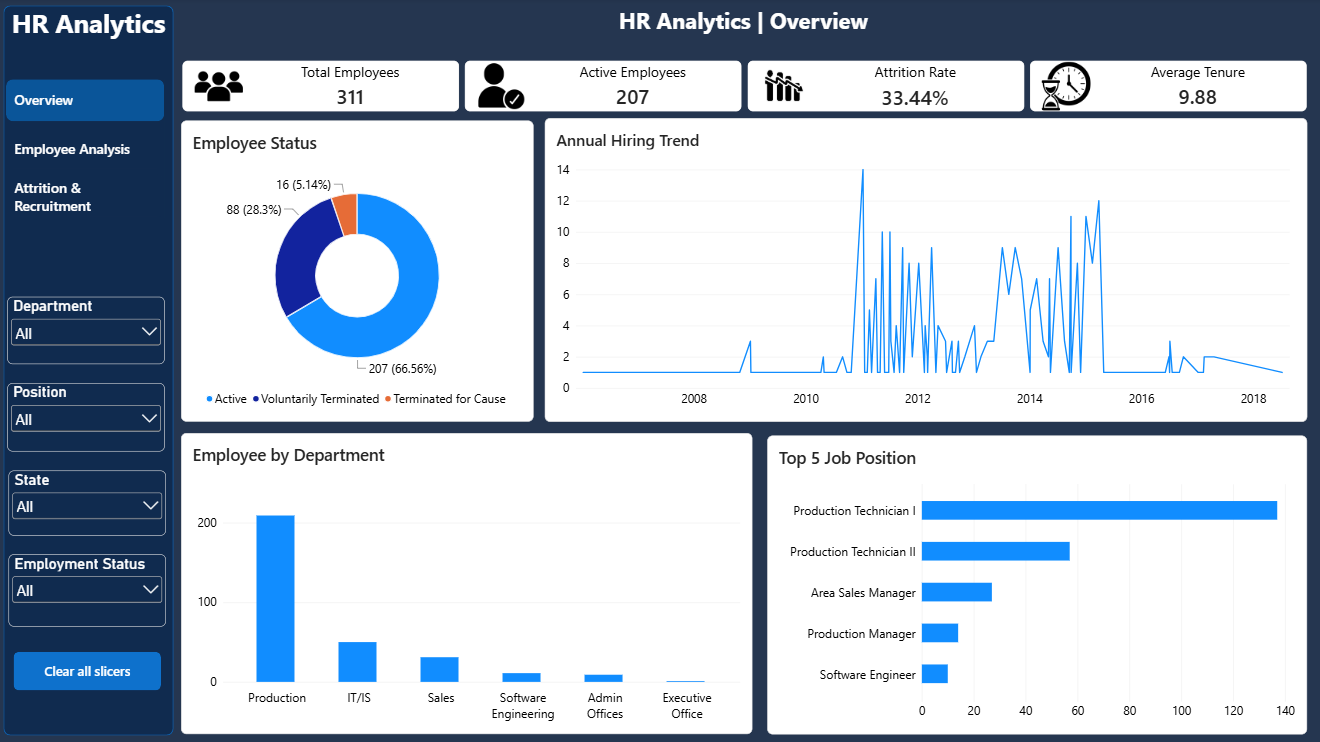

The dashboard page shown, as its layout file describes it:
{"tool":"powerbi","page":{"name":"Overview","canvas":[1920,1080],"ordinal":0},"visuals":[{"type":"textbox","box":[266,10.9,1632.3,52.5],"z":0},{"type":"cardVisual","fields":{"Data":["HRData.Total Employees","HRData.Active Employees","HRData.Attrition Rate","HRData.Average Tenure Years"]},"box":[270,90,1630.5,74.2],"z":1000},{"type":"donutChart","title":"Employee Status","fields":{"Category":["HRData.EmploymentStatus"],"Y":["HRData.Total Employees"]},"box":[267.8,177.3,510.3,436.1],"z":2000},{"type":"clusteredColumnChart","title":"Employee by Department","fields":{"Category":["HRData.Department"],"Y":["HRData.Total Employees"]},"box":[267.8,629.8,827,436.1],"z":3000},{"type":"clusteredBarChart","title":"Top 5 Job Position","fields":{"Category":["HRData.Position"],"Y":["HRData.Total Employees"]},"box":[1116.6,633.4,781.8,432.5],"z":4000},{"type":"lineChart","title":"Annual Hiring Trend","fields":{"Y":["HRData.Employees Hired"],"Category":["HRData.DateofHire"]},"box":[794.4,173.7,1103.9,439.7],"z":5000},{"type":"shape","box":[10.9,10.9,246.1,1056.8],"z":6000},{"type":"pageNavigator","box":[14.5,117.6,229.8,200.9],"z":7000},{"type":"slicer","fields":{"Values":["HRData.Department"]},"box":[16.3,432.5,228,97.7],"z":8000},{"type":"slicer","fields":{"Values":["HRData.Position"]},"box":[16.3,557.4,228,99.5],"z":9000},{"type":"slicer","fields":{"Values":["HRData.State"]},"box":[18.1,684.1,228,94.1],"z":10000},{"type":"slicer","fields":{"Values":["HRData.EmploymentStatus"]},"box":[18.1,805.3,228,105],"z":11000},{"type":"textbox","box":[20,10.9,228,65.1],"z":12000},{"type":"actionButton","box":[25.3,946.5,213.5,56.1],"z":13000}]}

Visuals, with their boxes in screenshot pixels (x1, y1, x2, y2), scaled from the page's 1920x1080 canvas onto the 1320x742 screenshot:
textbox: (left=183, top=7, right=1305, bottom=44)
cardVisual - HRData.Total Employees x HRData.Active Employees: (left=186, top=62, right=1307, bottom=113)
"Employee Status" donutChart: (left=184, top=122, right=535, bottom=421)
"Employee by Department" clusteredColumnChart: (left=184, top=433, right=753, bottom=732)
"Top 5 Job Position" clusteredBarChart: (left=768, top=435, right=1305, bottom=732)
"Annual Hiring Trend" lineChart: (left=546, top=119, right=1305, bottom=421)
shape: (left=7, top=7, right=177, bottom=734)
pageNavigator: (left=10, top=81, right=168, bottom=219)
slicer - HRData.Department: (left=11, top=297, right=168, bottom=364)
slicer - HRData.Position: (left=11, top=383, right=168, bottom=451)
slicer - HRData.State: (left=12, top=470, right=169, bottom=535)
slicer - HRData.EmploymentStatus: (left=12, top=553, right=169, bottom=625)
textbox: (left=14, top=7, right=170, bottom=52)
actionButton: (left=17, top=650, right=164, bottom=689)
